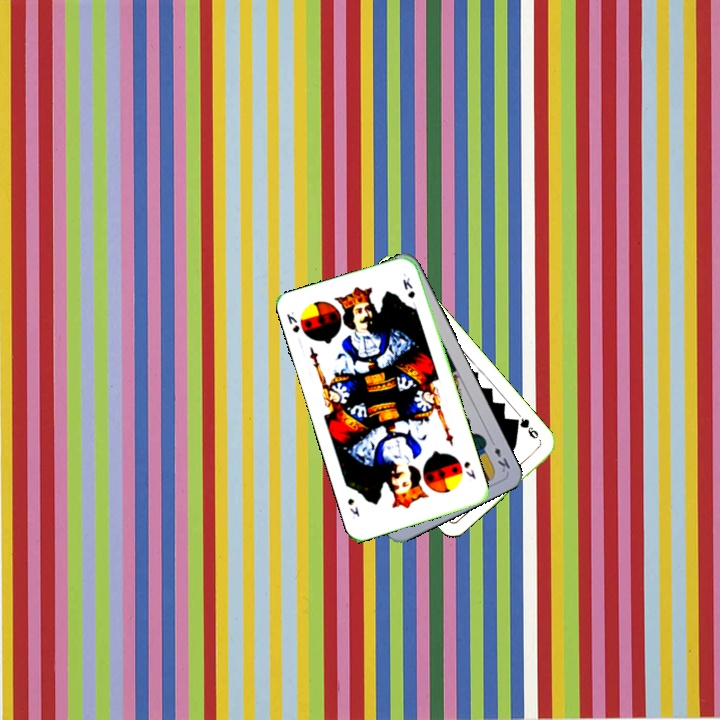EK: (486, 435, 513, 475)
G9: (510, 414, 541, 442)
SK: (282, 307, 302, 335), (460, 457, 478, 482)
